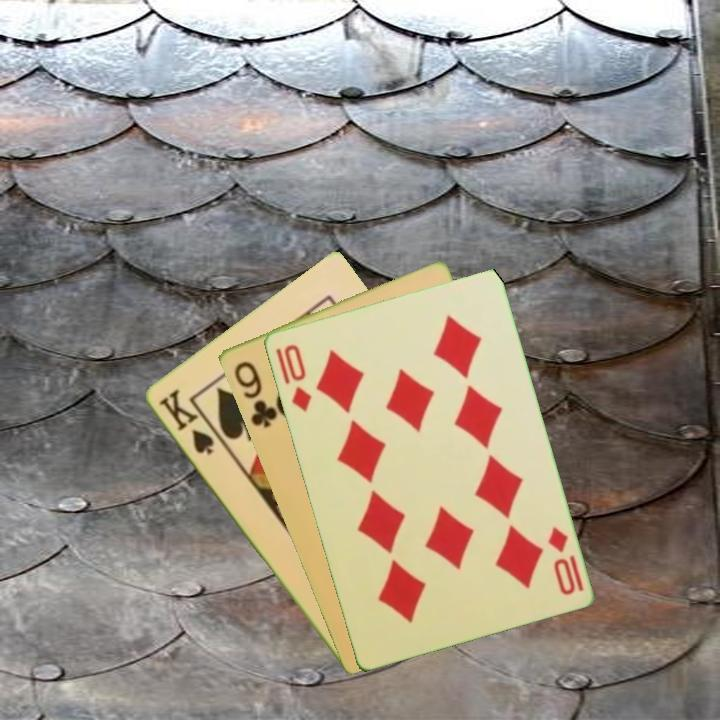10d: (544, 523, 586, 598), (280, 340, 314, 414)
9c: (229, 357, 280, 431)
Ks: (154, 385, 217, 458)
